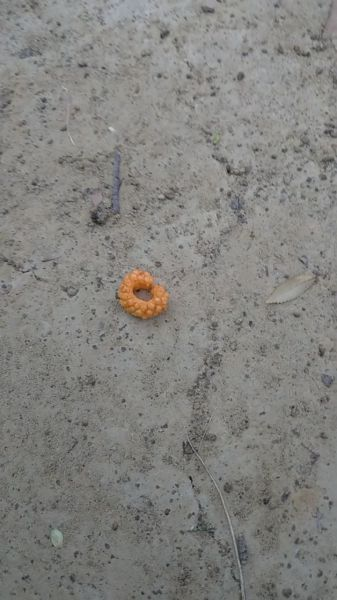eggs: (115, 266, 172, 325)
